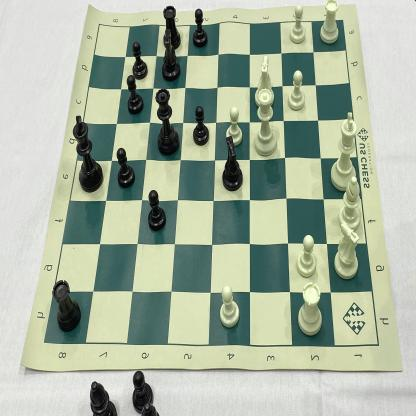black-king: (71, 113, 104, 195)
black-knight: (219, 135, 249, 193), (160, 28, 181, 84)
black-pawn: (114, 143, 136, 190), (190, 103, 212, 148), (147, 188, 168, 232), (126, 72, 144, 117), (131, 39, 149, 81), (192, 6, 210, 48)
black-queen: (153, 85, 182, 157)
black-rook: (51, 277, 82, 335), (161, 3, 183, 54)
white-bishop: (336, 174, 367, 231)
white-king: (330, 110, 363, 191)
white-knight: (331, 222, 364, 282), (251, 53, 276, 110)
white-pawn: (218, 281, 244, 330), (295, 230, 319, 281), (224, 102, 245, 146), (288, 67, 308, 112), (288, 2, 308, 45)
white-queen: (251, 88, 281, 158)
white-rook: (296, 282, 324, 338), (318, 0, 342, 47)
